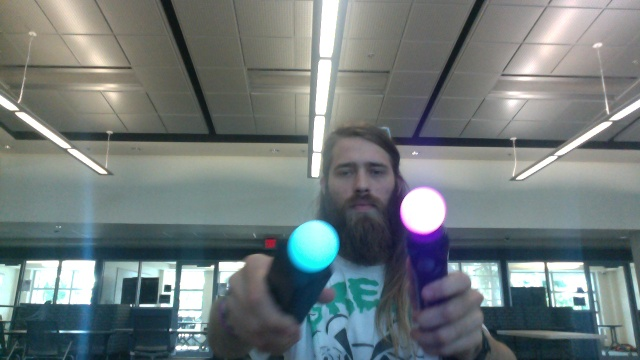wand: (288, 221, 340, 271), (401, 188, 446, 234)
